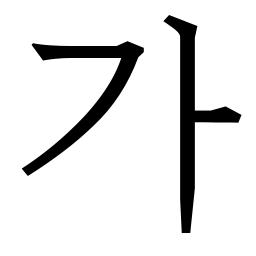Gaji: (163, 93, 218, 145)
